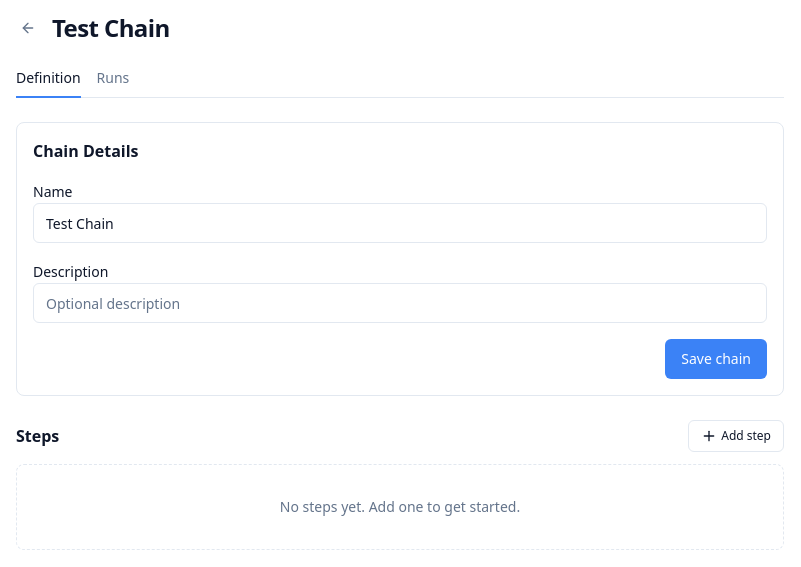
Scenario: WorkflowChainEditorPage - Tab bar › Runs tab shows run count from list
Click the button "runs" at (113, 83), box [97,68,129,98]
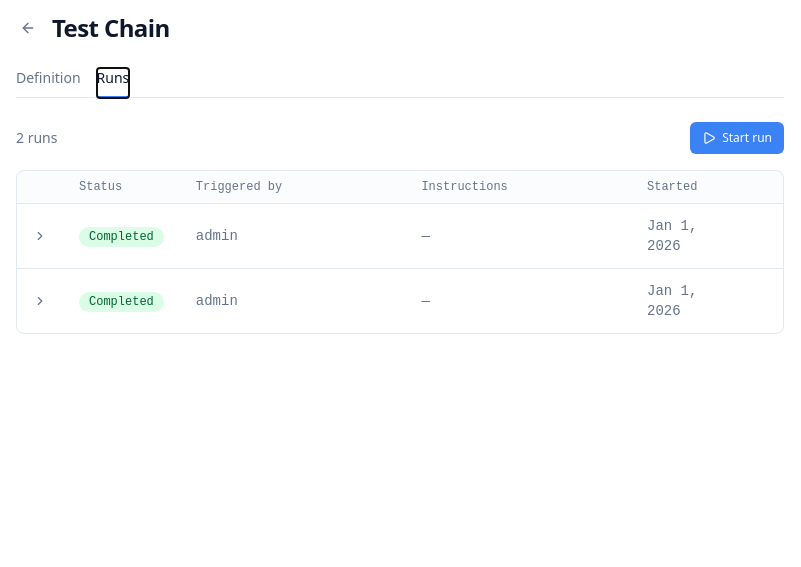
Result: the text "2 runs" is shown at [16,128,58,148]
